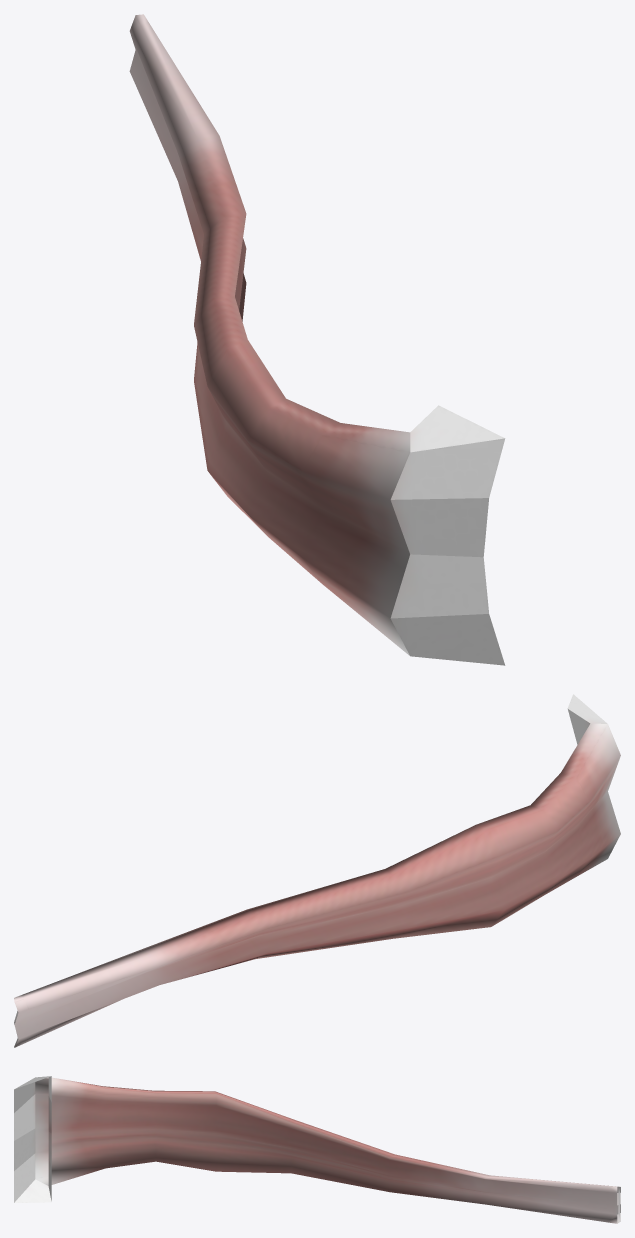
File: Músculo Recto Medial.FBX
3 views of the same model, one above another, from view 1: azimuth 30°, elevation 25°; view 2: azimuth 150°, elevation 25°; view 3: azimuth 270°, elevation 25° (orthographic). The views are drawn at different scales.
Visible parts, largest first — view 1: sclera right; view 2: sclera right; view 3: sclera right.
Part boxes in pixels (box(x1,y1,x2,y2)): sclera right: box(129, 14, 505, 665); sclera right: box(14, 694, 620, 1047); sclera right: box(14, 1076, 620, 1223).
Size of the model in its own units: 0.4145 by 0.279 by 1.22.
1 material, 1 textured.
